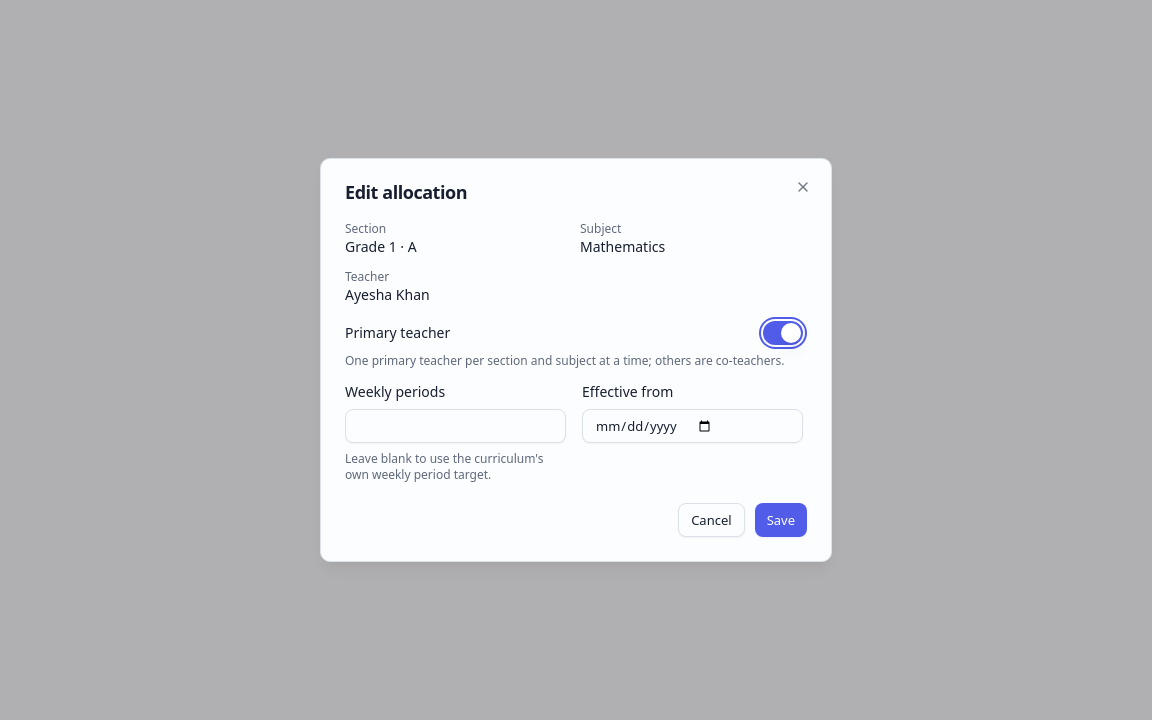
EditAllocationDialog › when the server refuses › shows a 422 on weekly_periods under that field and stays open
Step 1. Type "70" into the number field labelled "Weekly periods" → (456, 426), box [345,409,566,443]
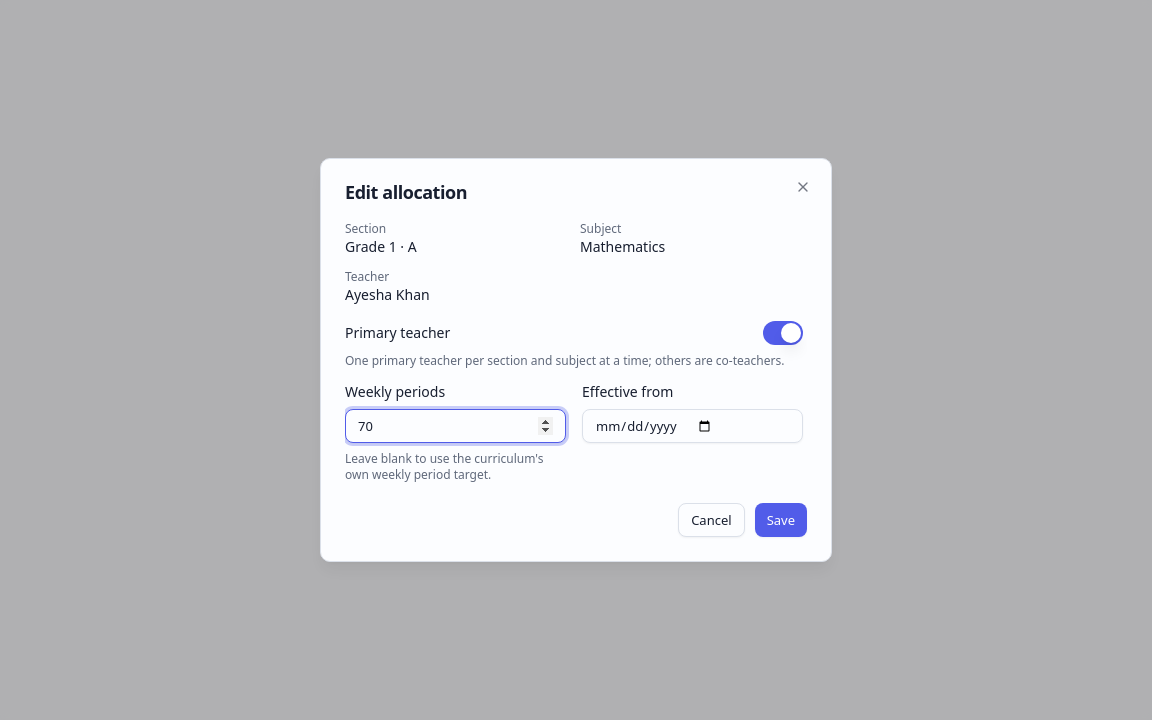
Step 2. Click the button "Save" → (781, 520), box [755,503,807,537]
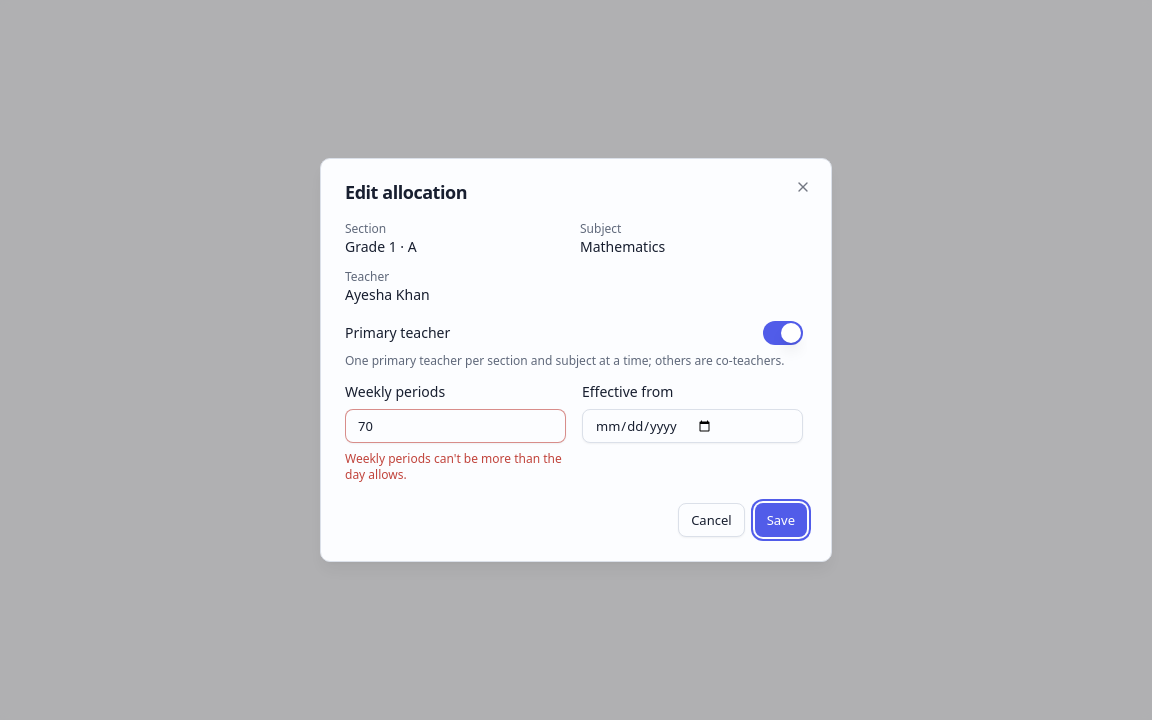
Now the text "Weekly periods can't be more than the day allows." is shown, box [345,451,566,483]
